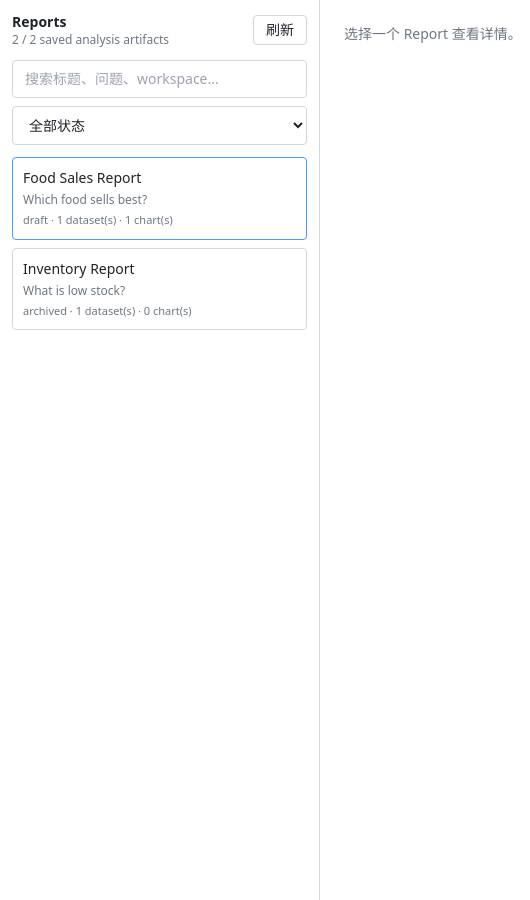
ReportsPanel › filters reports by search text and status
This screenshot has width=530, height=900.
Expected: the text "Food Sales Report" is shown, [23,168,141,187]
Expected: the text "Inventory Report" is shown, [23,258,135,278]
Type "inventory" into the field with placeholder "搜索标题、问题、workspace..." at point(160, 79), box [12,60,307,98]
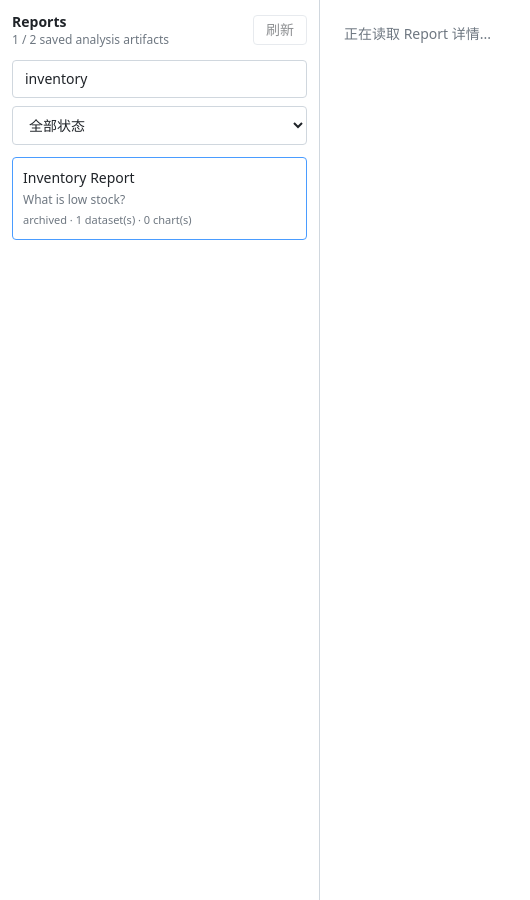
Expected: the text "Inventory Report" is shown, [23,168,135,187]
Expected: the button "Food Sales Report" is gone
Select "draft" in the dropdown named "Report status filter" at point(160, 126), box [12,106,307,145]
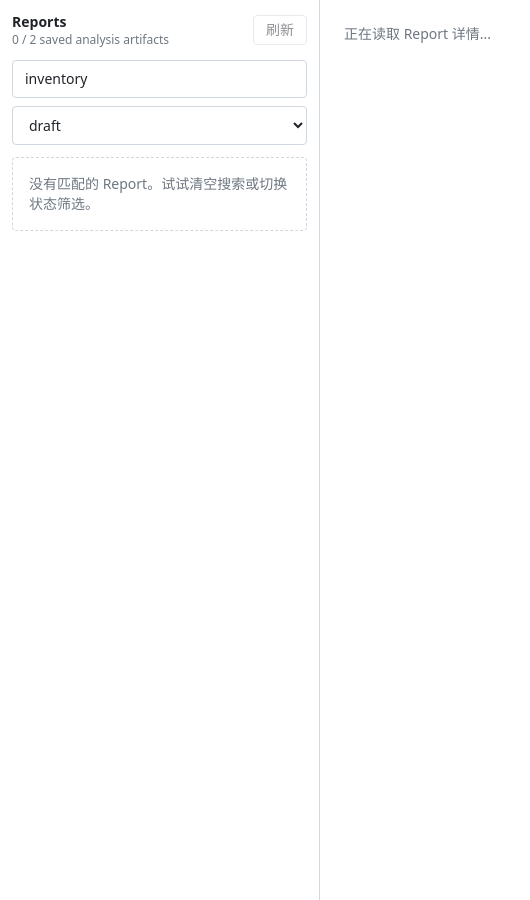
Expected: the list item "没有匹配的 Report。试试清空搜索或切换状态筛选。" is shown, [12,157,307,231]
